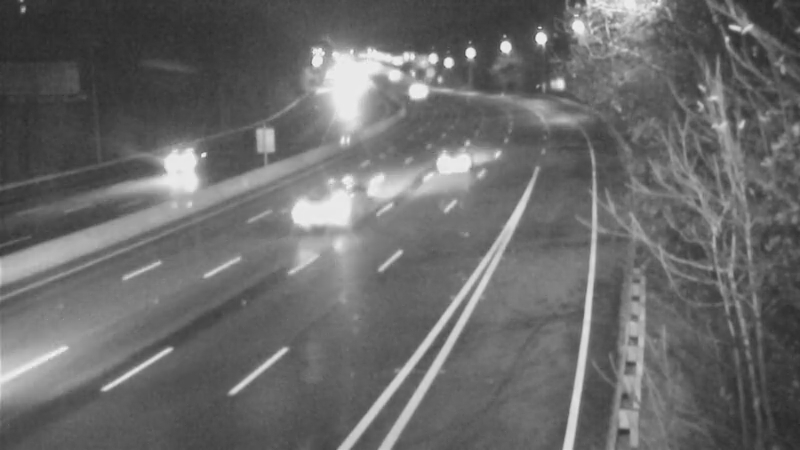vehicle: (412, 128, 492, 208), (287, 168, 367, 248), (148, 121, 228, 201), (390, 61, 440, 111)
